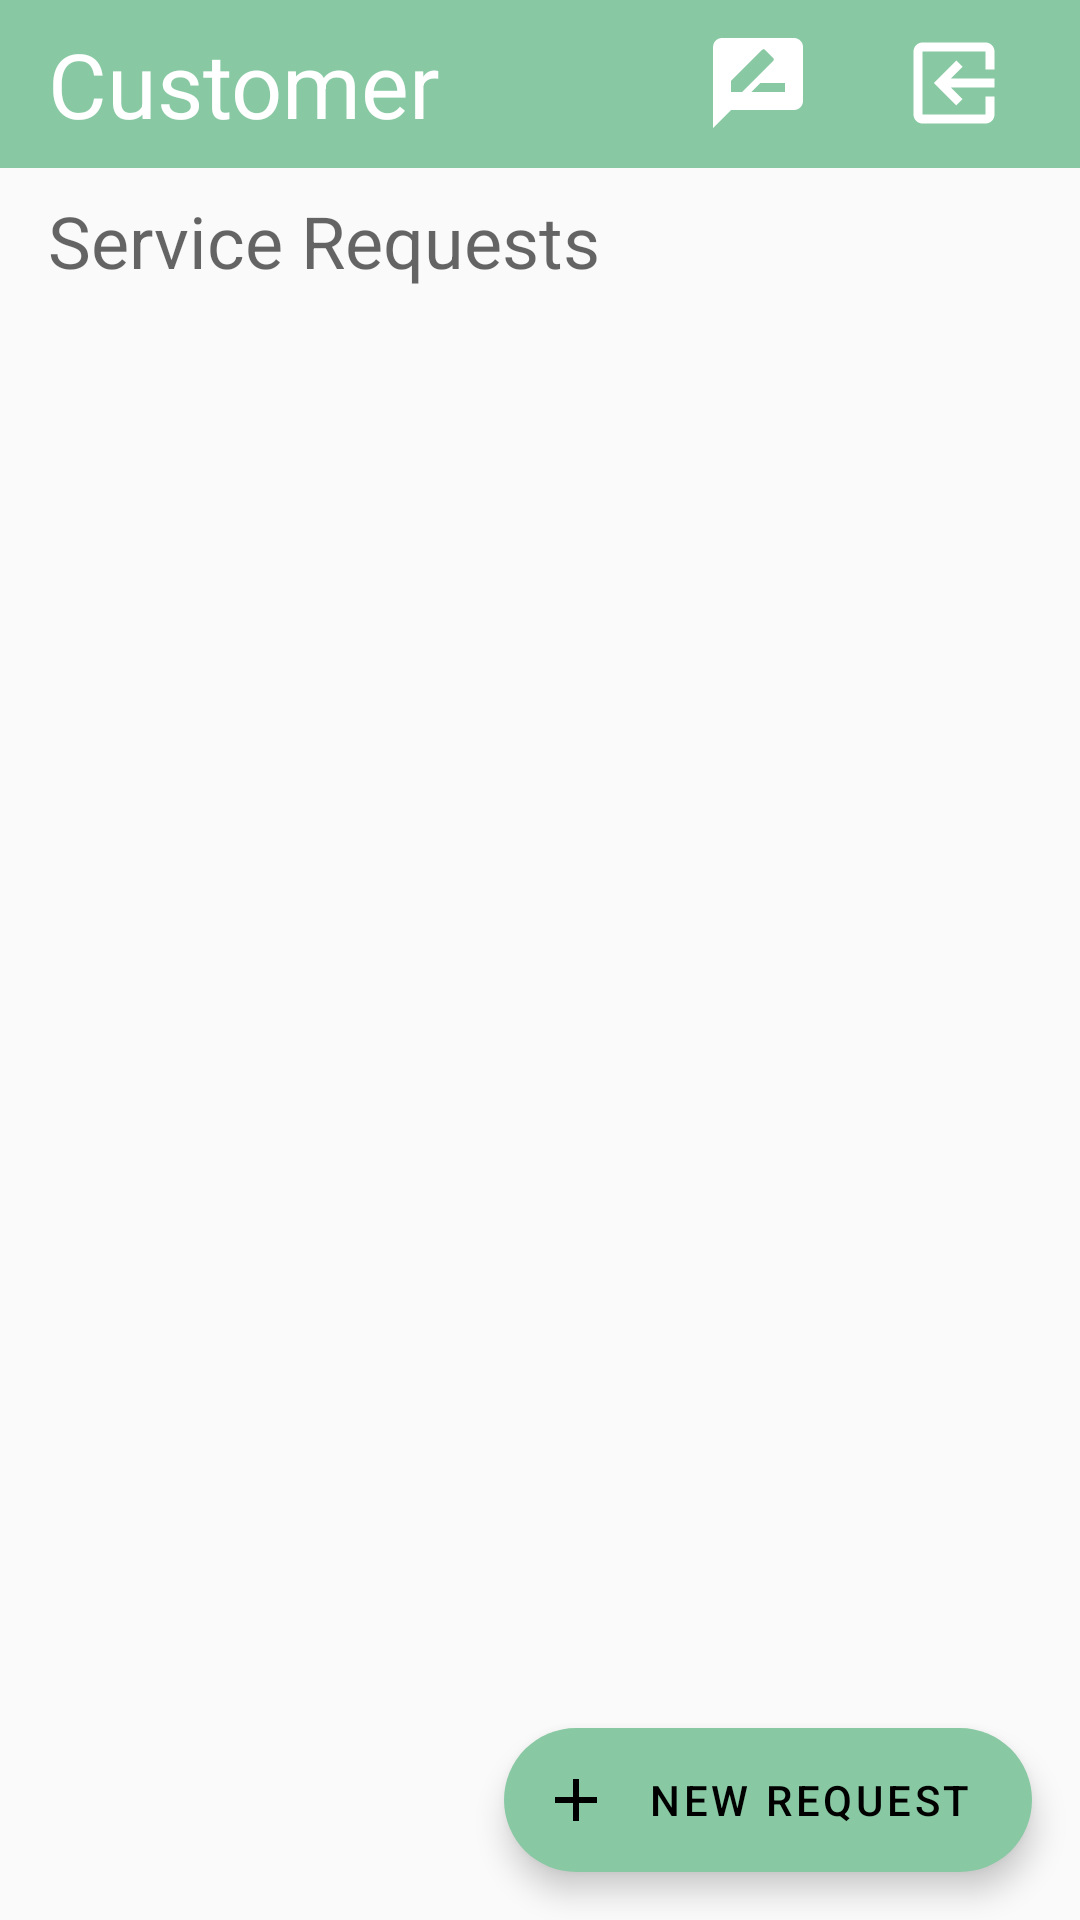

Named icons in this screenshot (1080*1920) and their centers, [x,y]:
exit to app: [954,83]
rate review: [758,83]
